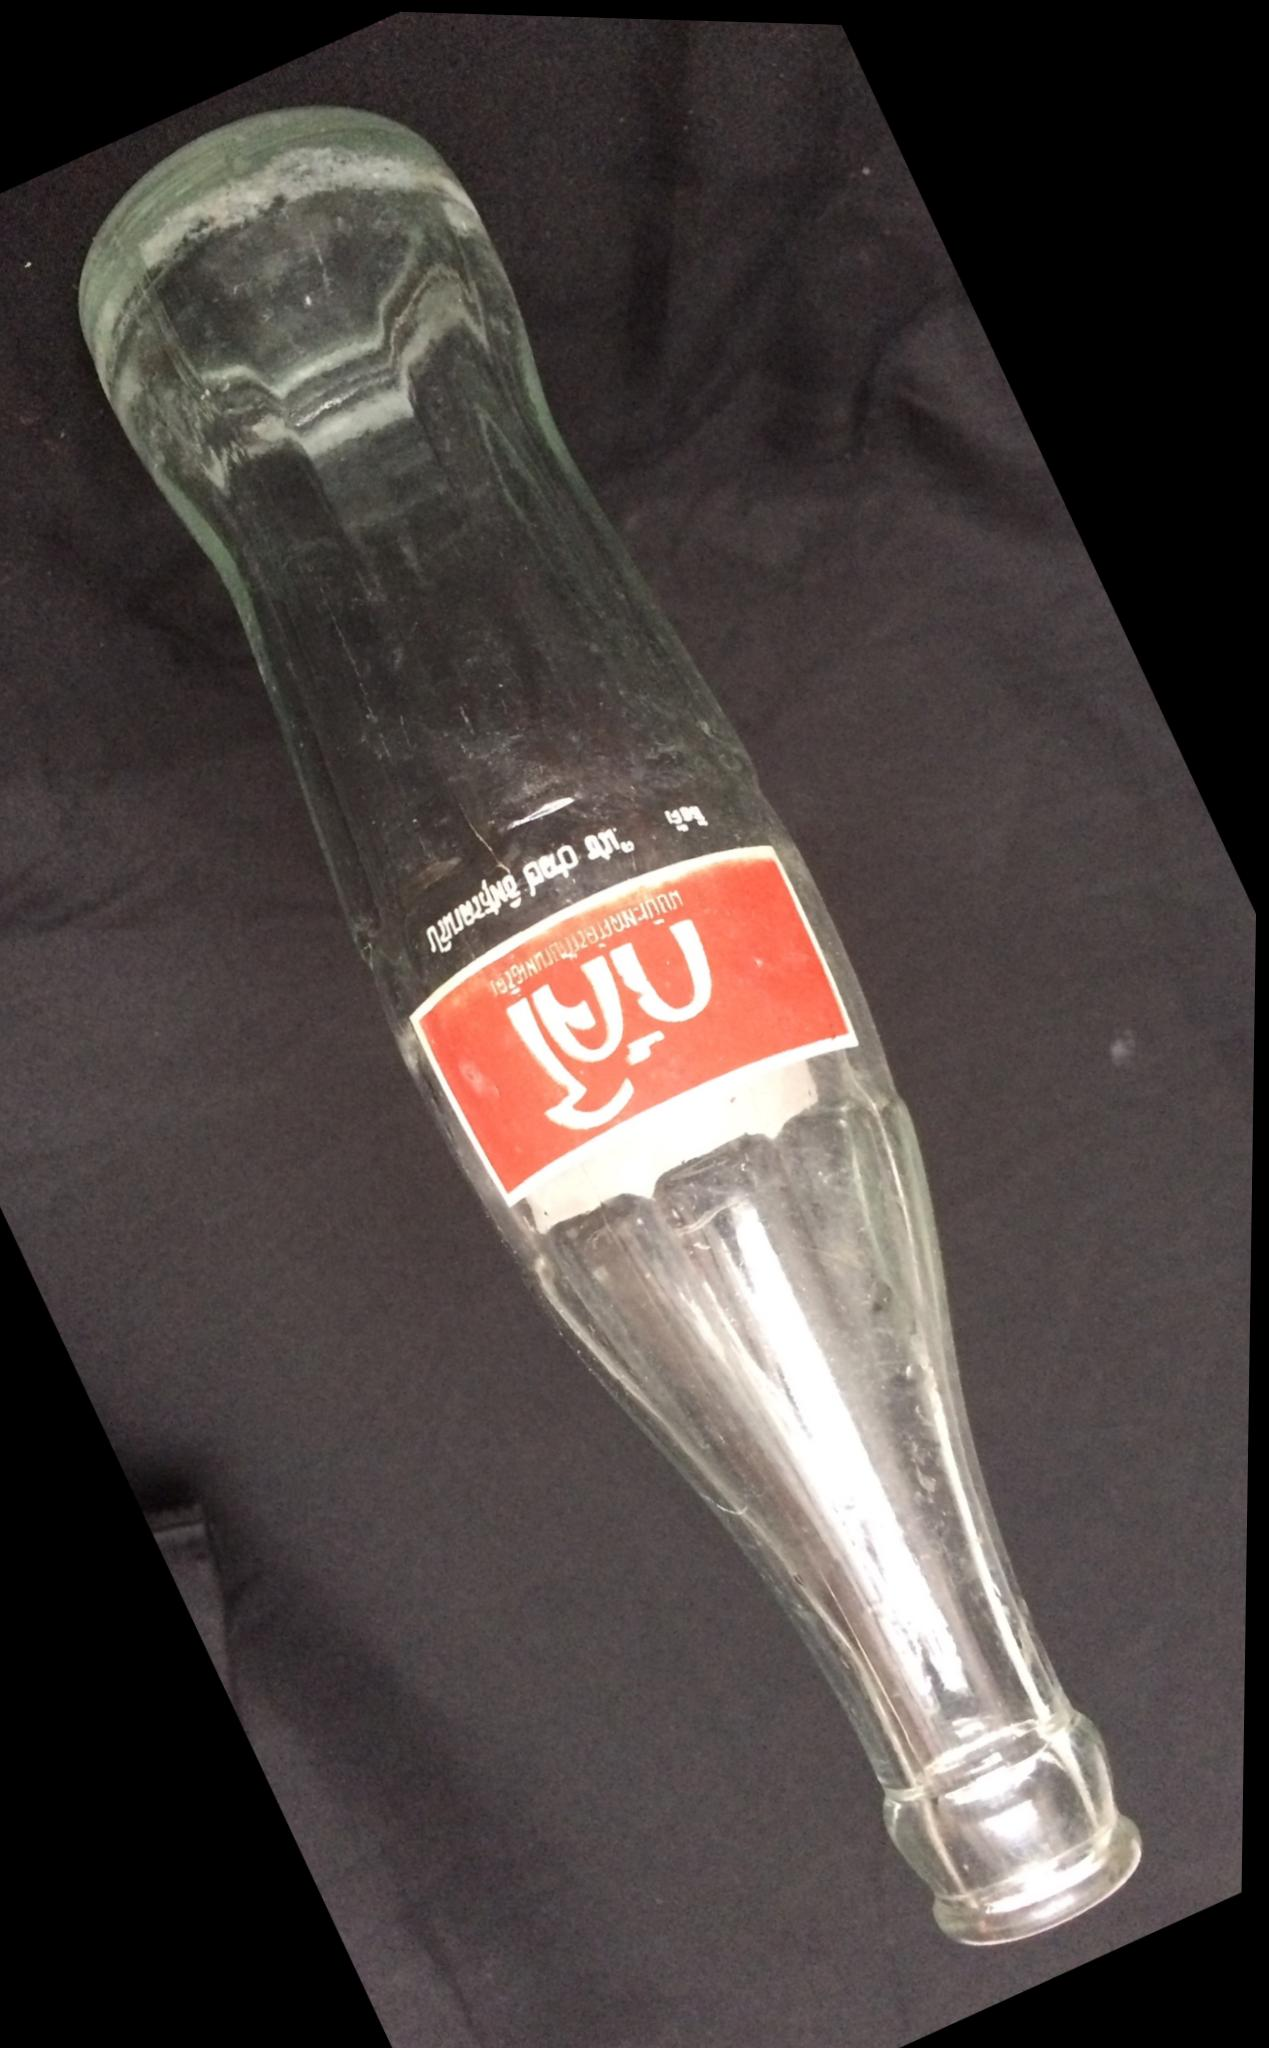glass: (0, 12, 1269, 2048)
